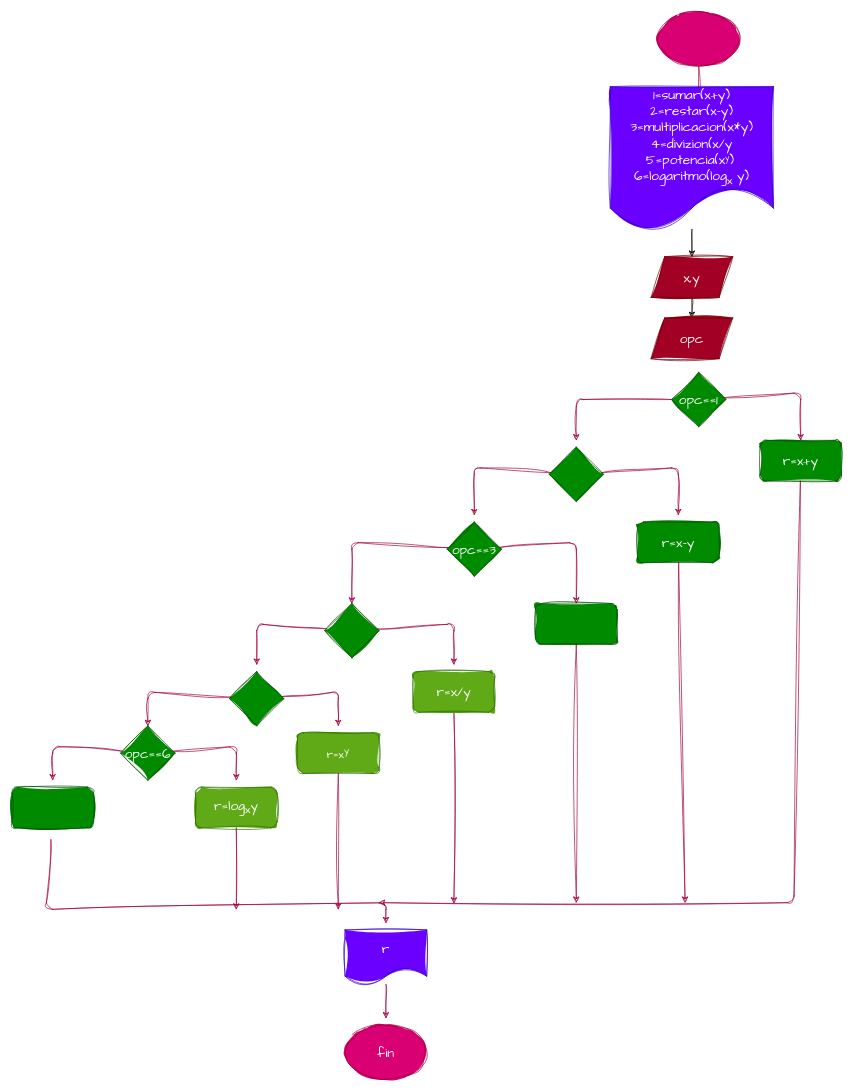
This 853x1091 diagram has some shape labels left out. Each missing label, with the centre of its shape:
inicio: pixel 698 38
opc==2: pixel 576 474
opc==4: pixel 351 630
opc==5: pixel 256 698
r="opcion no valida": pixel 52 807
r=x*y: pixel 576 623
